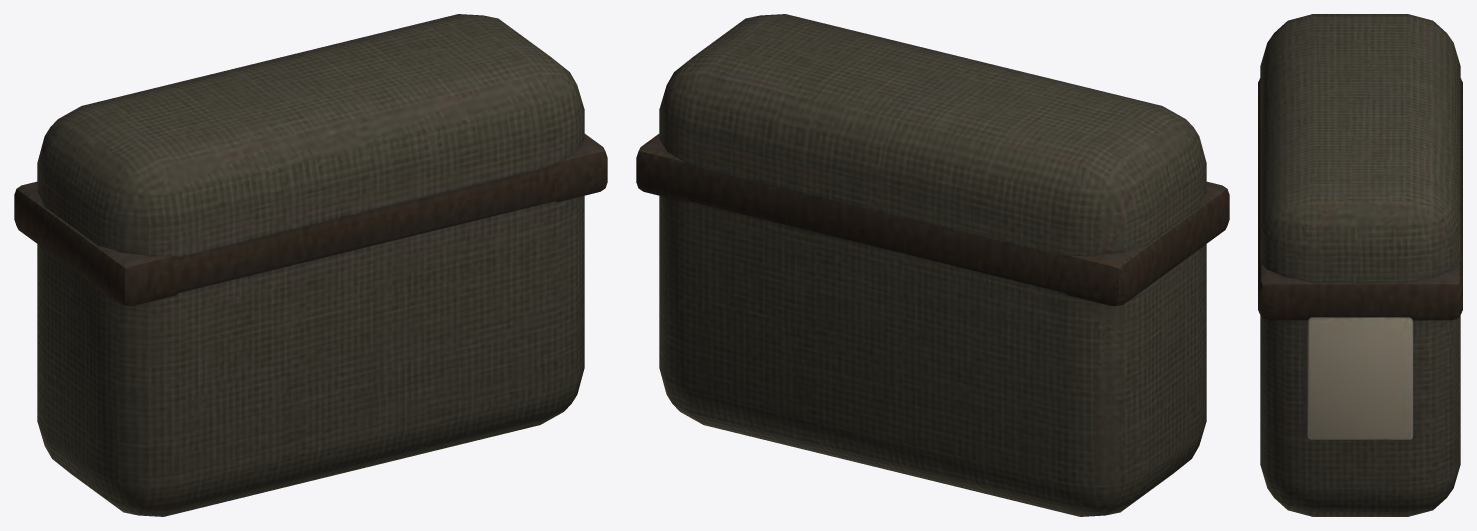
File: recruit_medkit.glb
The picture shows the model from 3 angles, left to right: view 1: azimuth 30°, elevation 25°; view 2: azimuth 150°, elevation 25°; view 3: azimuth 270°, elevation 25°; orthographic projection. The views are drawn at different scales.
Visible parts, largest first — view 1: recruit_medkit; view 2: recruit_medkit; view 3: recruit_medkit.
Boxes of the visible parts, x1=… form: recruit_medkit: x1=14, y1=14, x2=607, y2=516; recruit_medkit: x1=636, y1=14, x2=1229, y2=516; recruit_medkit: x1=1258, y1=14, x2=1462, y2=516.
Bounding box in the file's own units: 0.161 × 0.115 × 0.065.
1 material, 1 textured.
